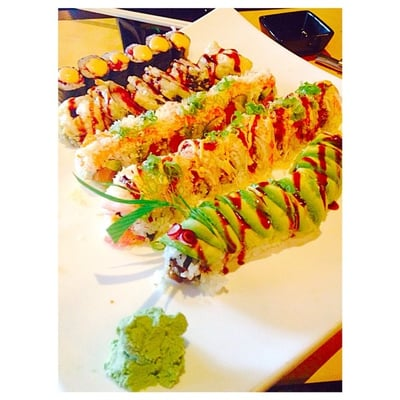curry: (103, 306, 188, 391)
